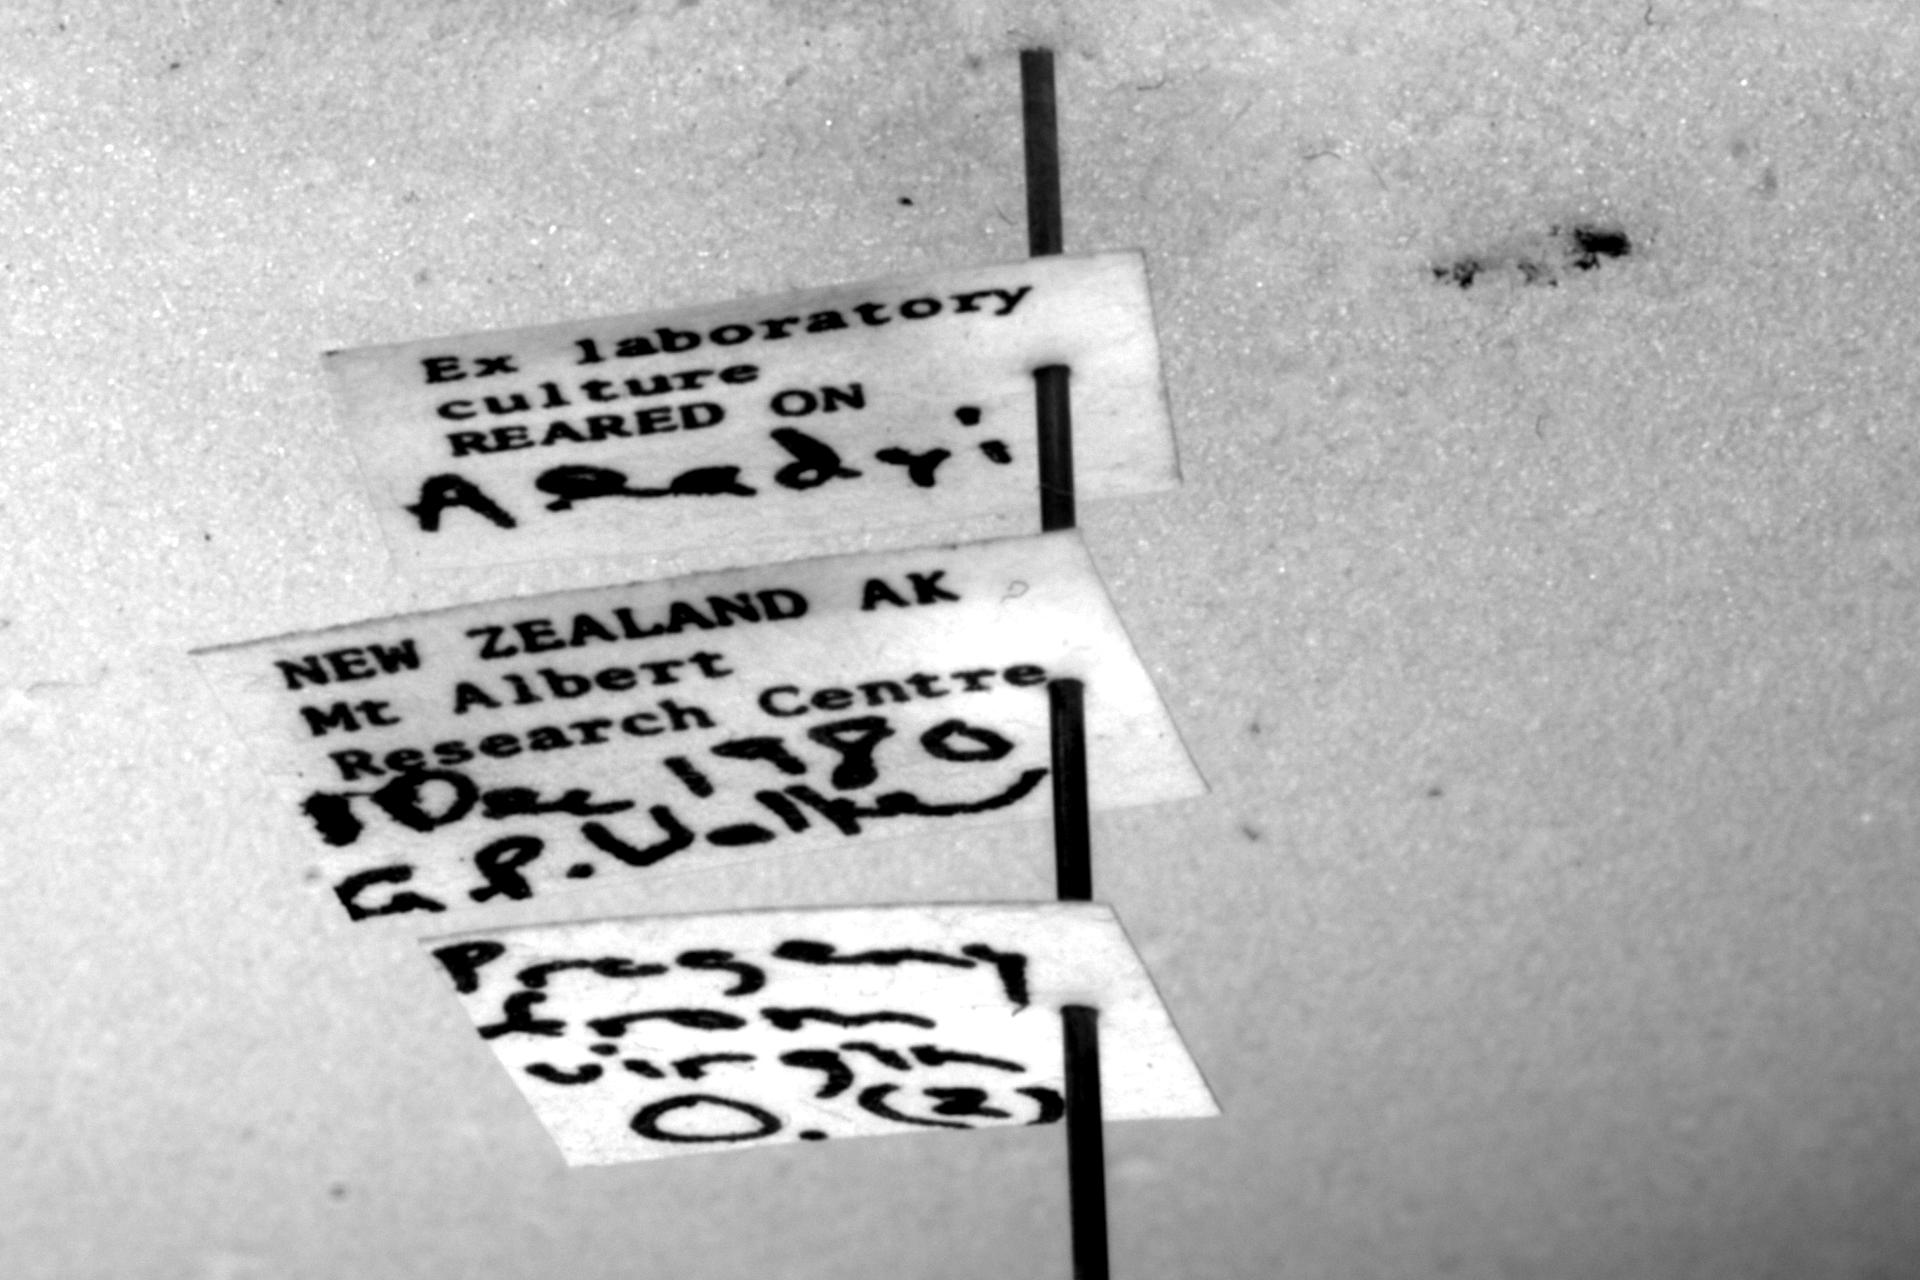hand_label: (424, 904, 1219, 1166)
mixed_label: (193, 533, 1201, 919), (323, 251, 1181, 570)
